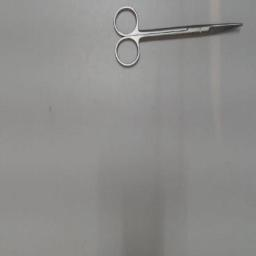Curved Mayo Scissors: (112, 4, 244, 70)
